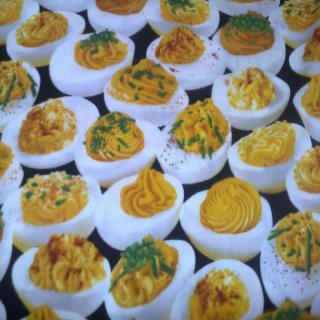Egg: (0, 0, 320, 320), (154, 106, 232, 184)
